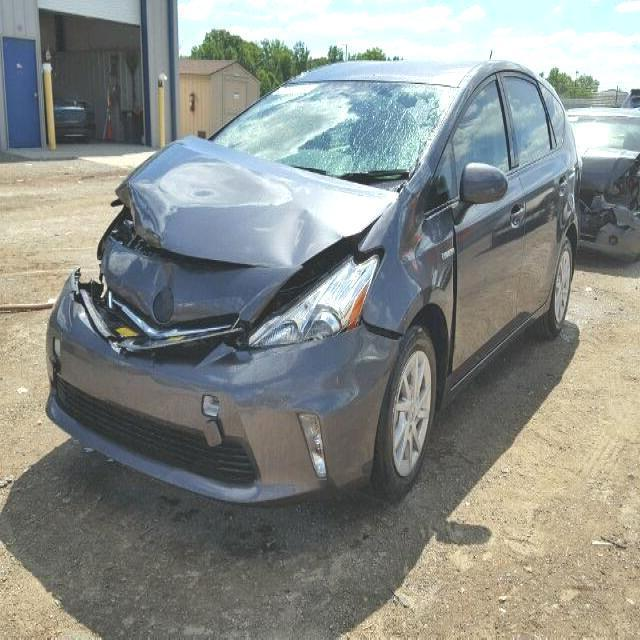minor: (226, 329, 363, 414)
moderate: (49, 130, 458, 367)
